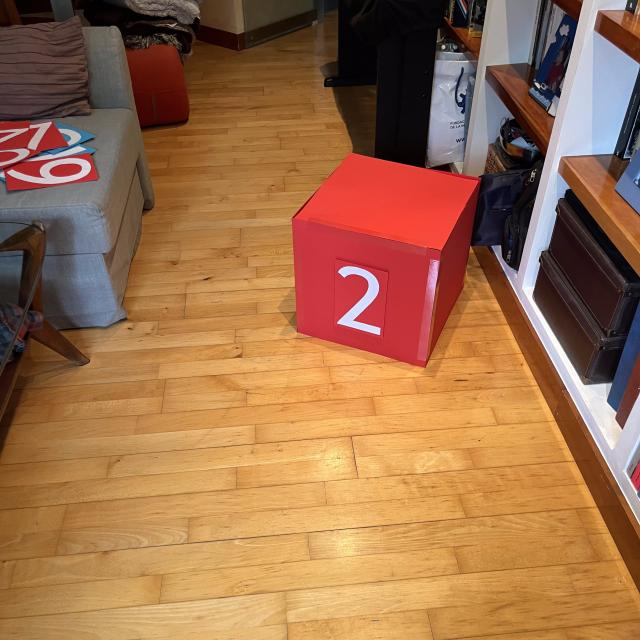box: (287, 149, 482, 369)
